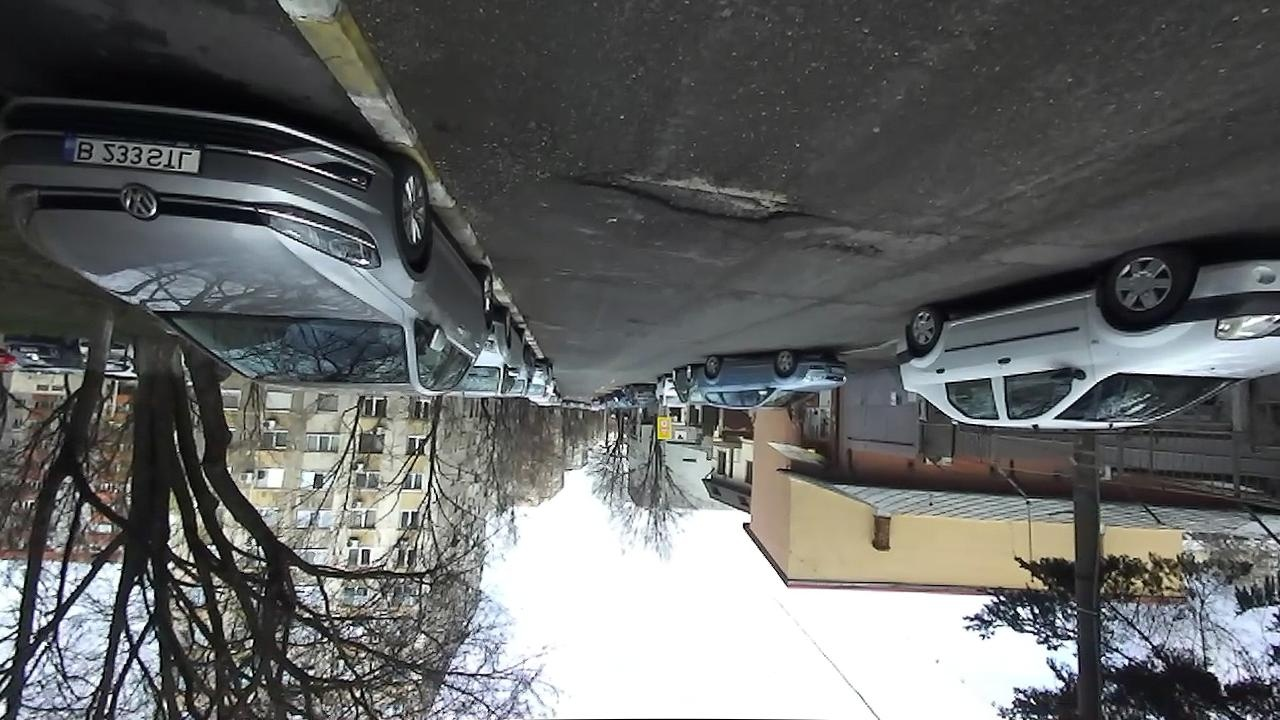pothole: (567, 166, 832, 227), (802, 237, 890, 260)
